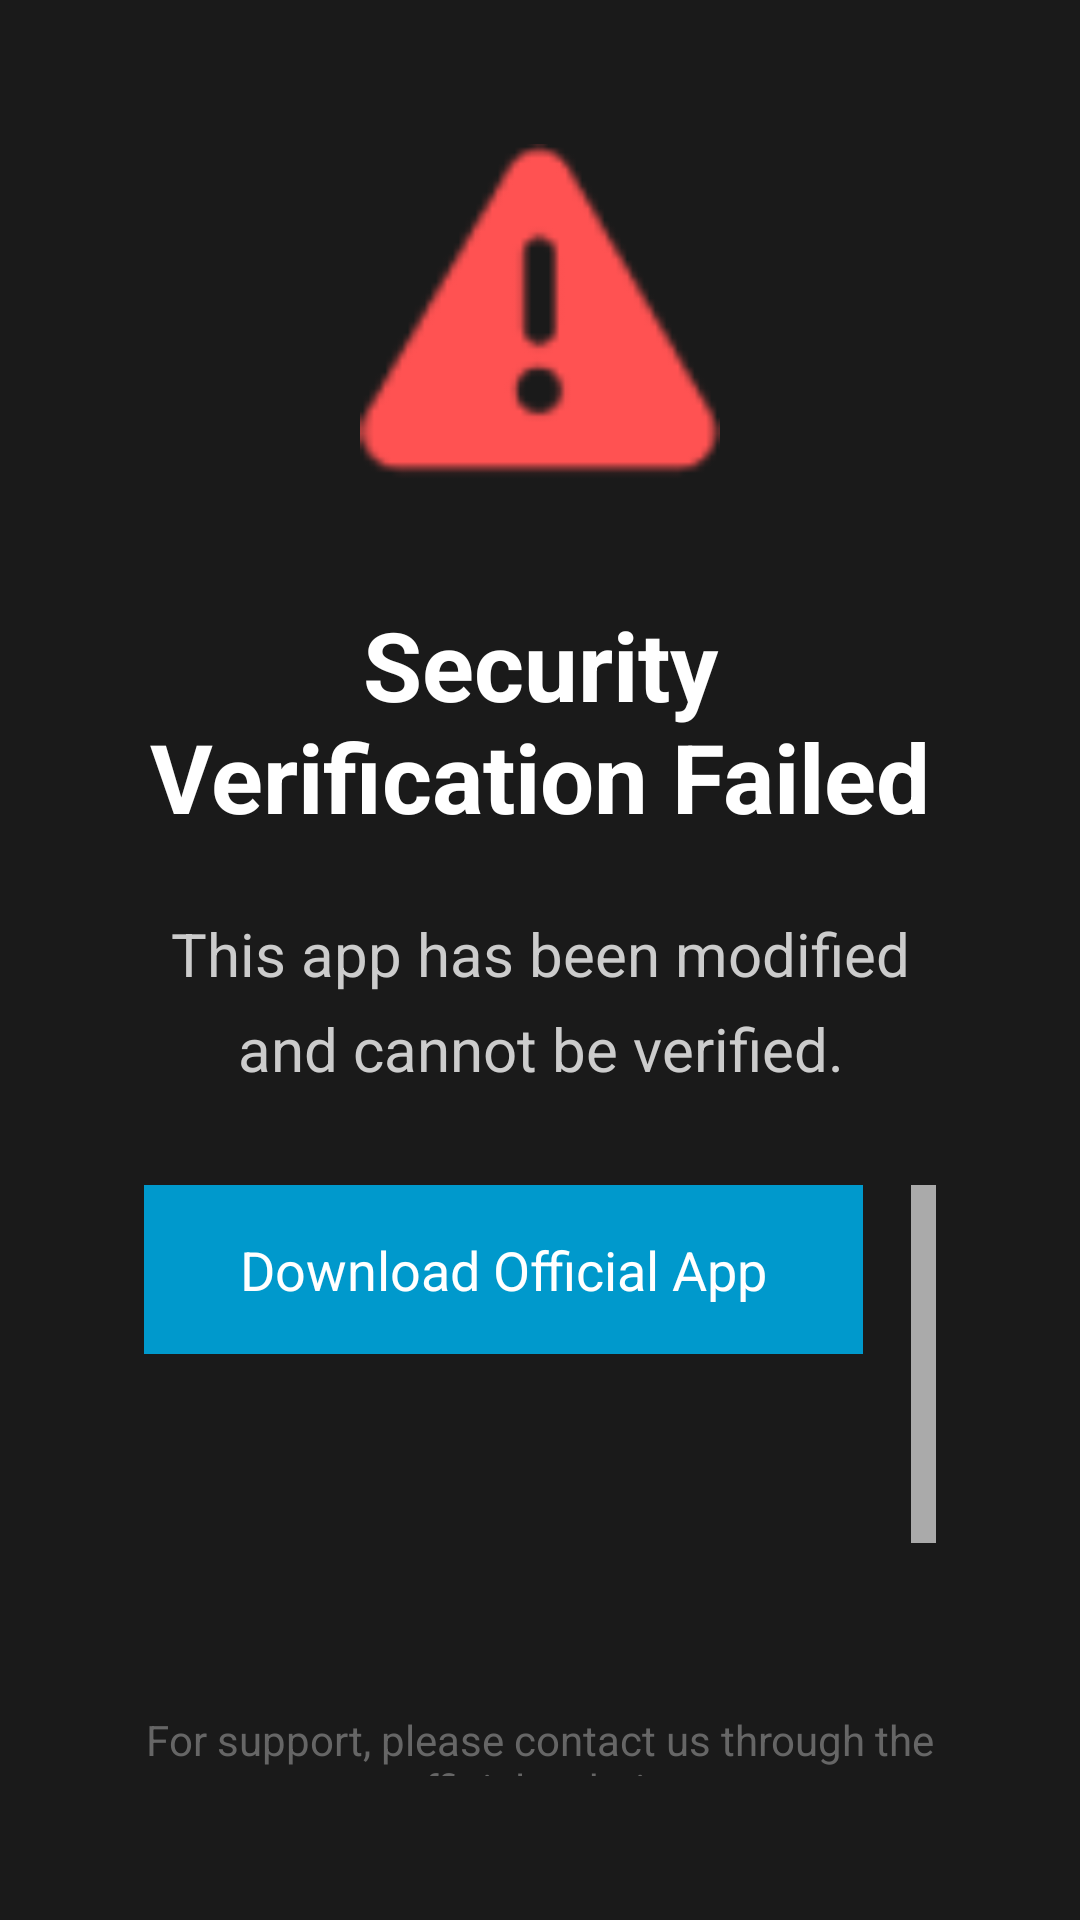

Where to tap for icons on this 1080×1920 app screen, as point (x, y):
Security Warning: point (540, 308)
